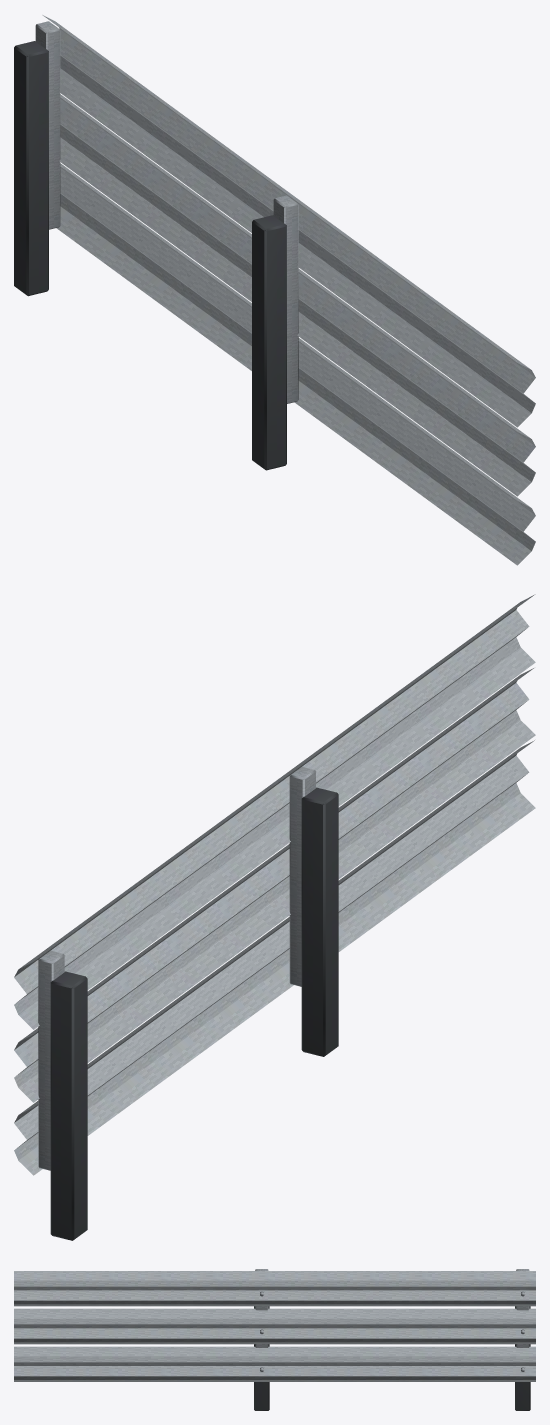
The model's file is armco-three_high.glb.
3 renders of one model, top to bottom at view 1: azimuth 30°, elevation 25°; view 2: azimuth 150°, elevation 25°; view 3: azimuth 270°, elevation 25°, orthographic. The views are drawn at different scales.
Parts seen in each view (by area): view 1: galvanised-rail, dark-steel, galvanised; view 2: galvanised-rail, dark-steel, galvanised; view 3: galvanised-rail, dark-steel, galvanised.
Boxes of the visible parts, x1,y1,x2,y2 form: galvanised-rail: [42, 15, 535, 565]; dark-steel: [14, 41, 286, 470]; galvanised: [35, 21, 298, 403]; galvanised-rail: [14, 594, 535, 1175]; dark-steel: [50, 787, 338, 1240]; galvanised: [38, 767, 315, 1170]; galvanised-rail: [14, 1271, 535, 1381]; dark-steel: [254, 1306, 530, 1410]; galvanised: [255, 1269, 529, 1371].
Size of the model in its own units: 0.27 by 1.21 by 4.
3 materials, 3 textured.
